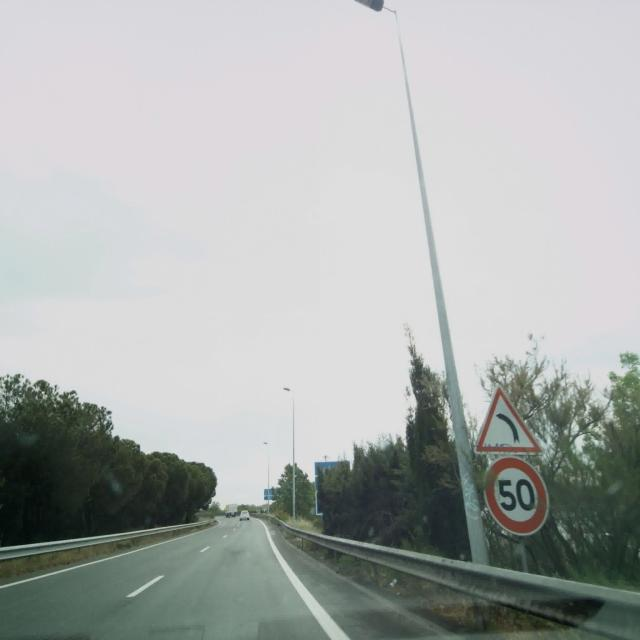car: (239, 510, 250, 520), (225, 510, 233, 517)
